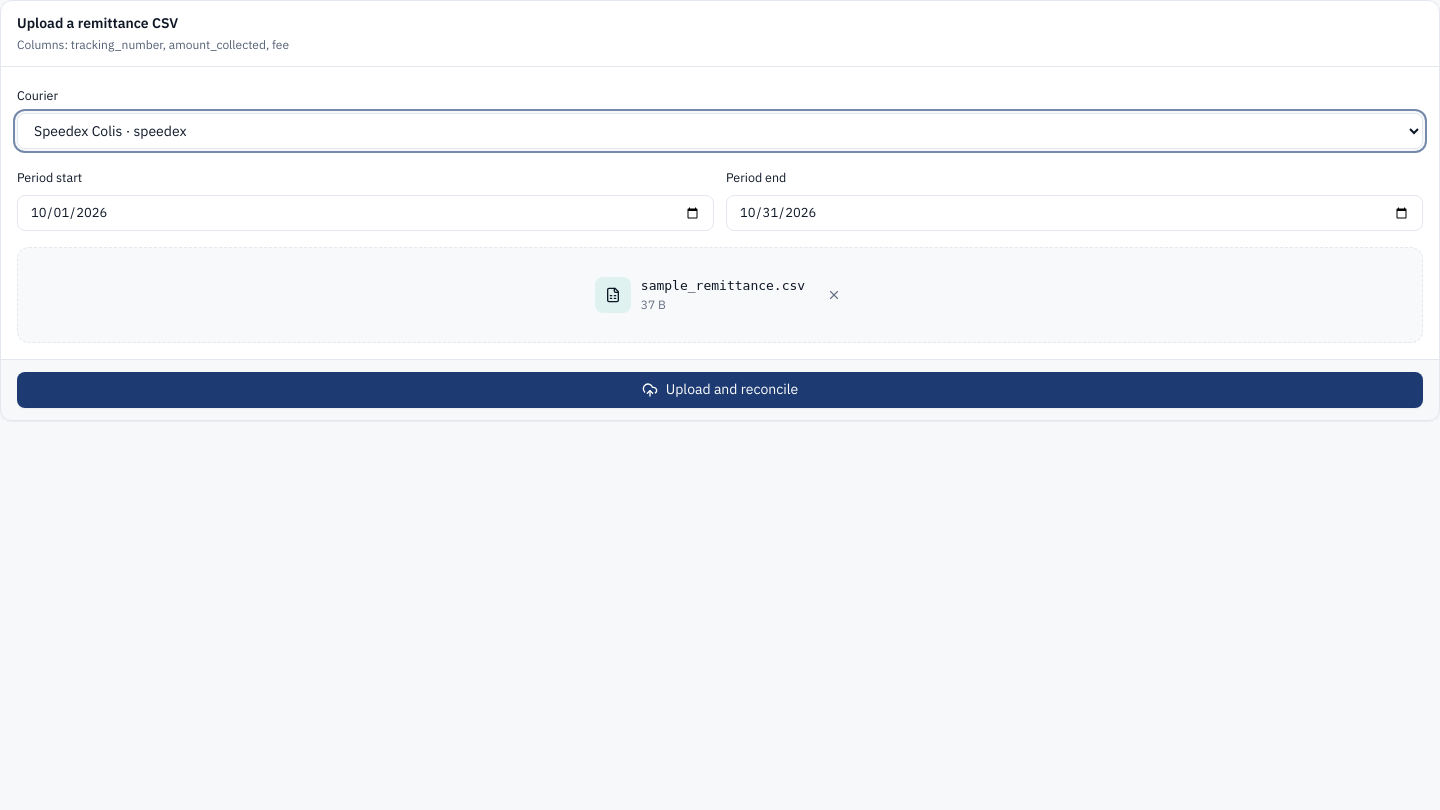
Scenario: UploadCard › lists every rejected row from the ProblemDetail
Earlier steps of the test are not shown.
Expected: the text with test id "picked-file" reads "sample_remittance.csv", [641,278,805,293]
What coordinates should you click on to do the following:
click the button with test id "upload-submit"
I would click on:
 (720, 390)
Its box is [17,372,1423,408].
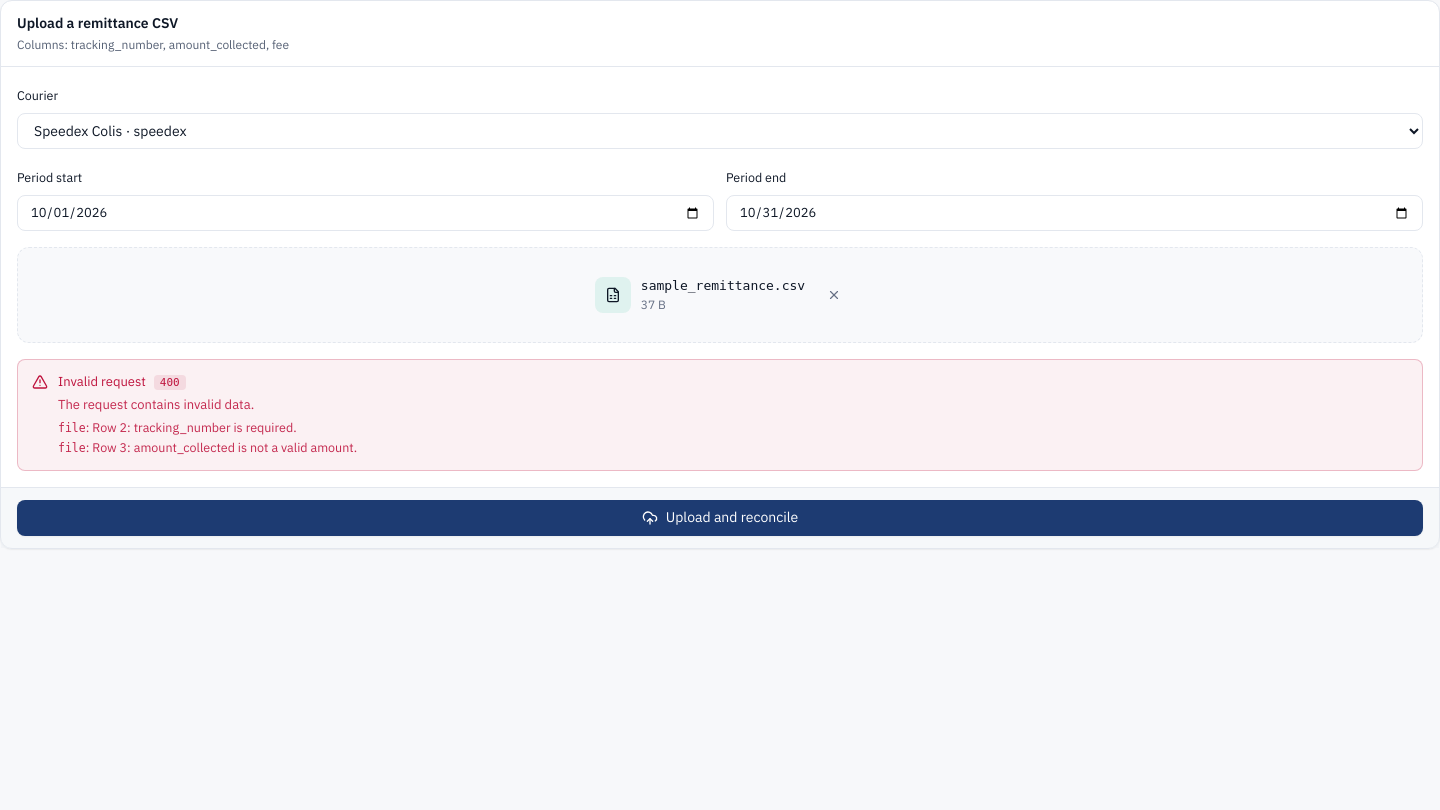
Now the message with test id "problem" shows "Row 2: tracking_number is required.", box [92,418,296,436]
Now the message with test id "problem" shows "Row 3: amount_collected is not a valid amount.", box [92,438,357,457]
